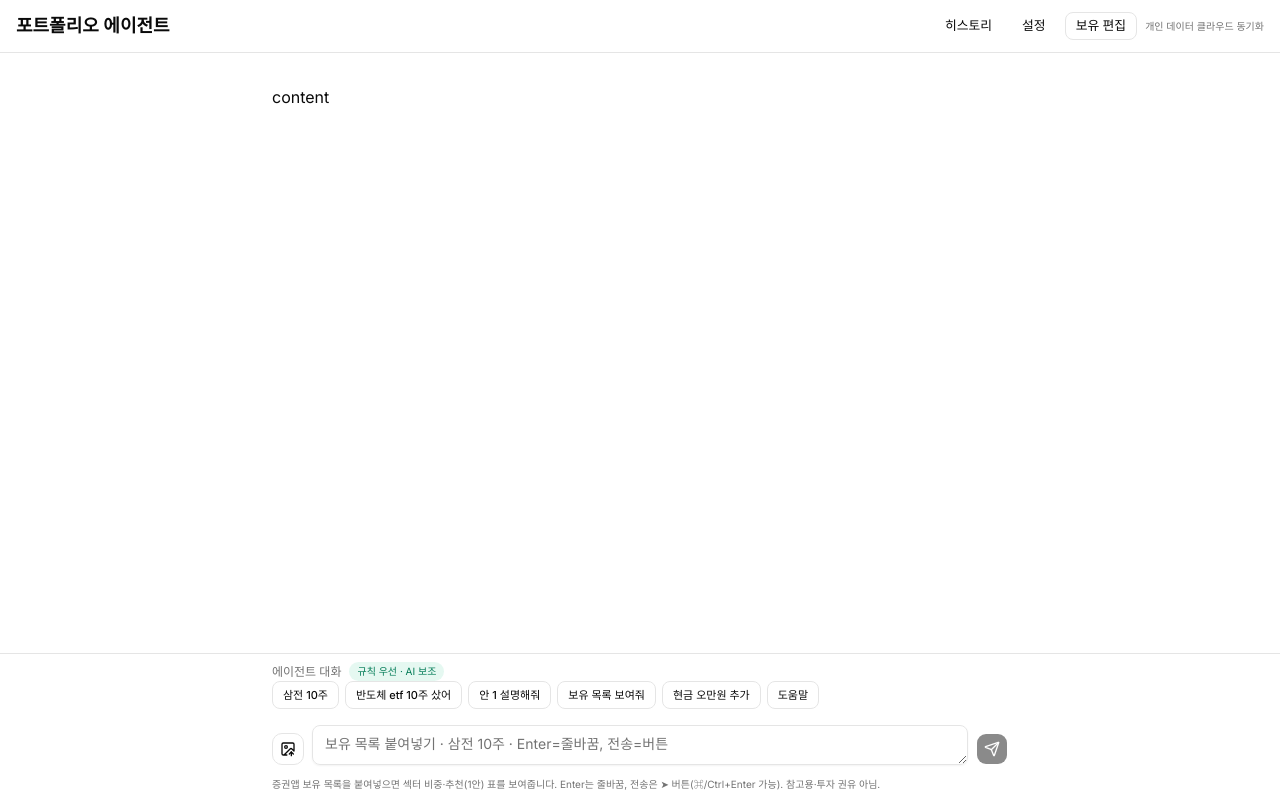
Test: AgentChatDock › 질문 전송 후 에이전트 답변이 표시된다
Type "SOXX 10주 등록" into the text box named "에이전트에게 질문".
click(640, 745); type("SOXX 10주 등록")  # box [312,725,968,765]
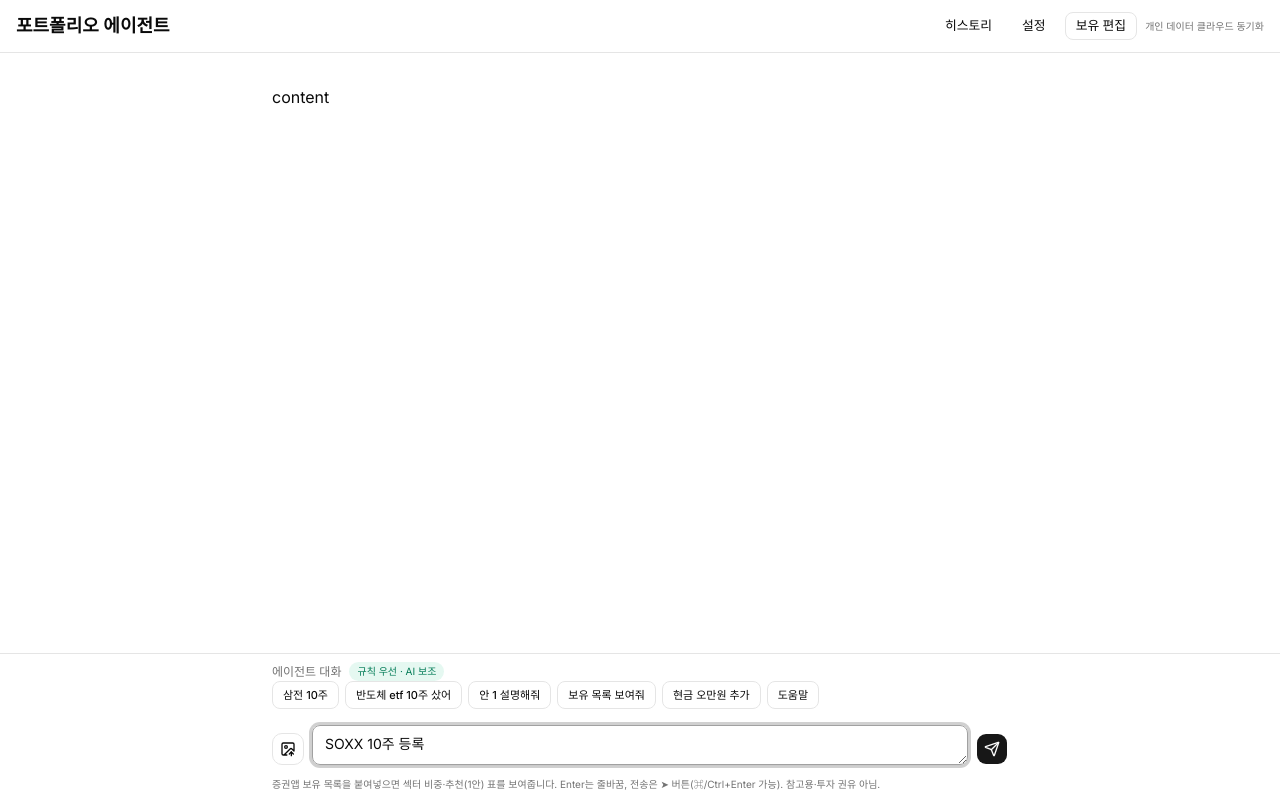
Click the button named "질문 보내기".
click(992, 749)  # box [976,733,1008,765]
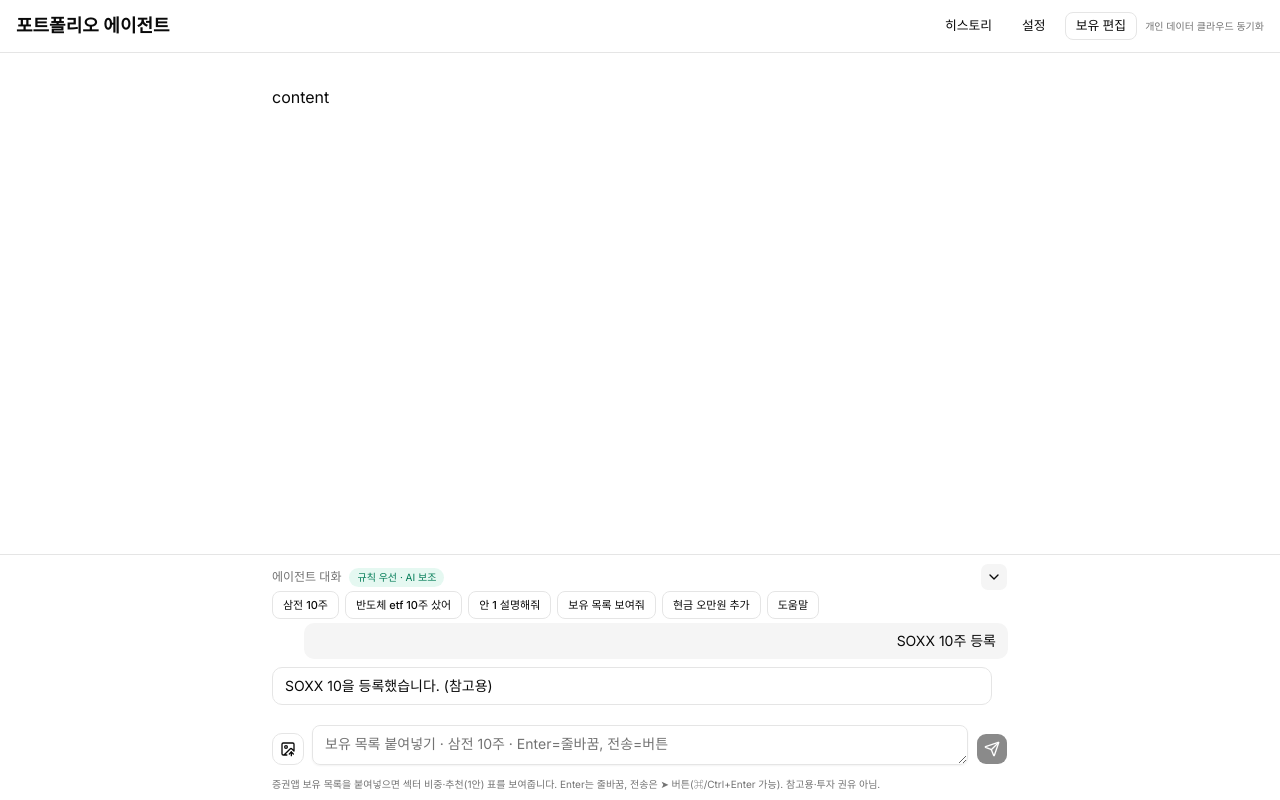
Now the list item "SOXX 10을 등록했습니다. (참고용)" is shown, box [272,667,992,705]
